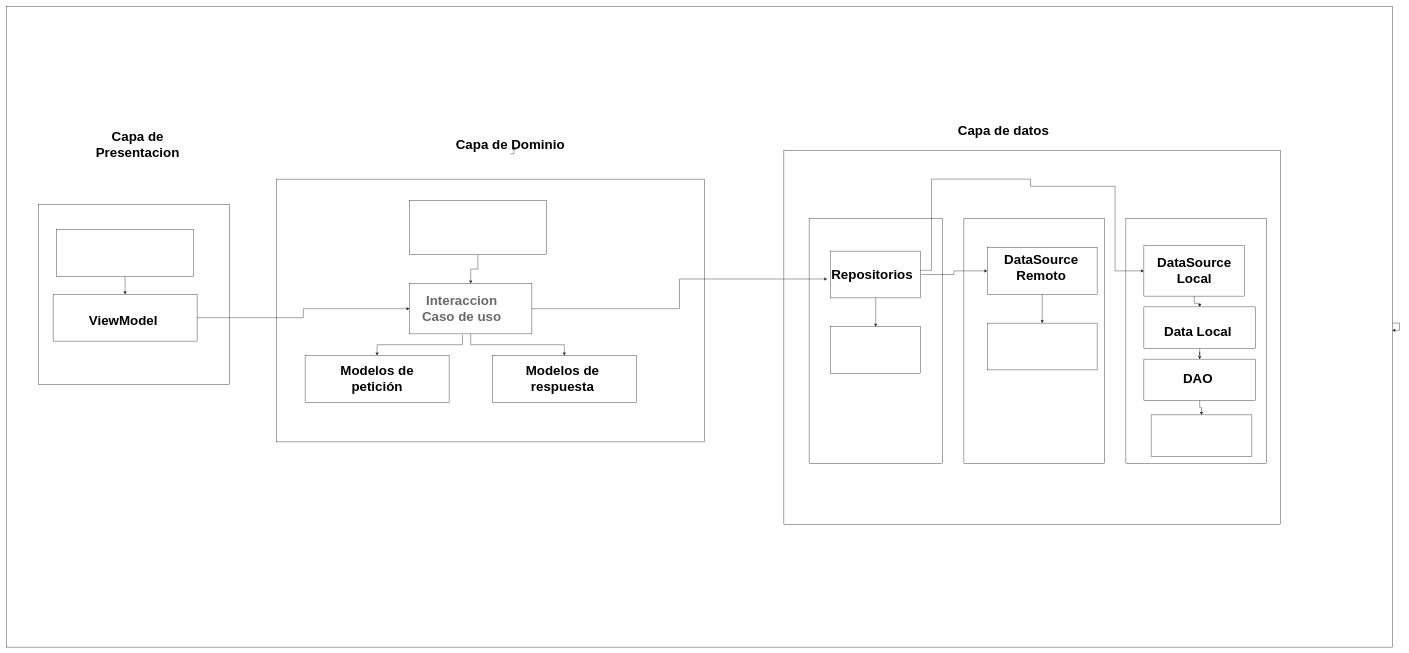
The diagram is 1409 pixels wide and 653 high, and some of its shapes have lost their labels. The shapes that lost their labels are listed below. From the top down, each one's centre as x and y in pixels, then its label:
(477,227): Use Case
(125,252): View
(875,350): Mappers
(1042,346): Data Remota
(1201,435): Local DB
